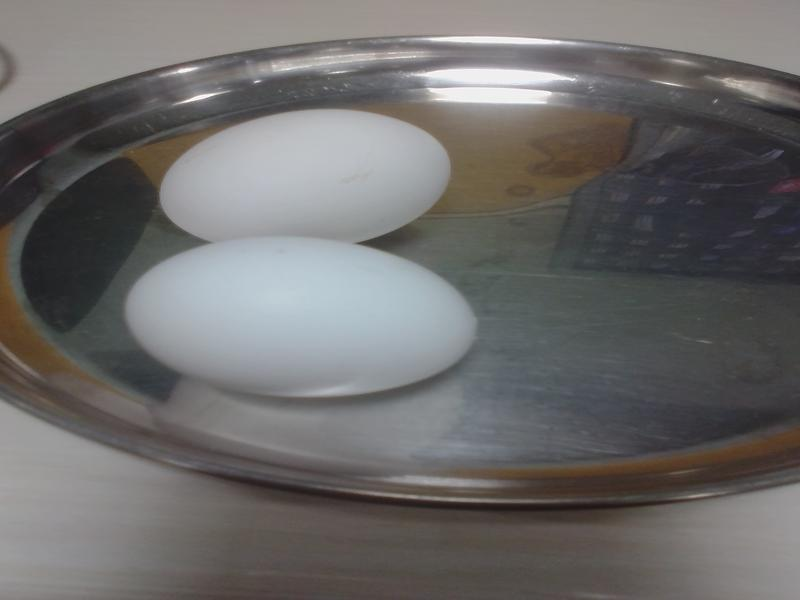egg: (162, 110, 448, 240)
